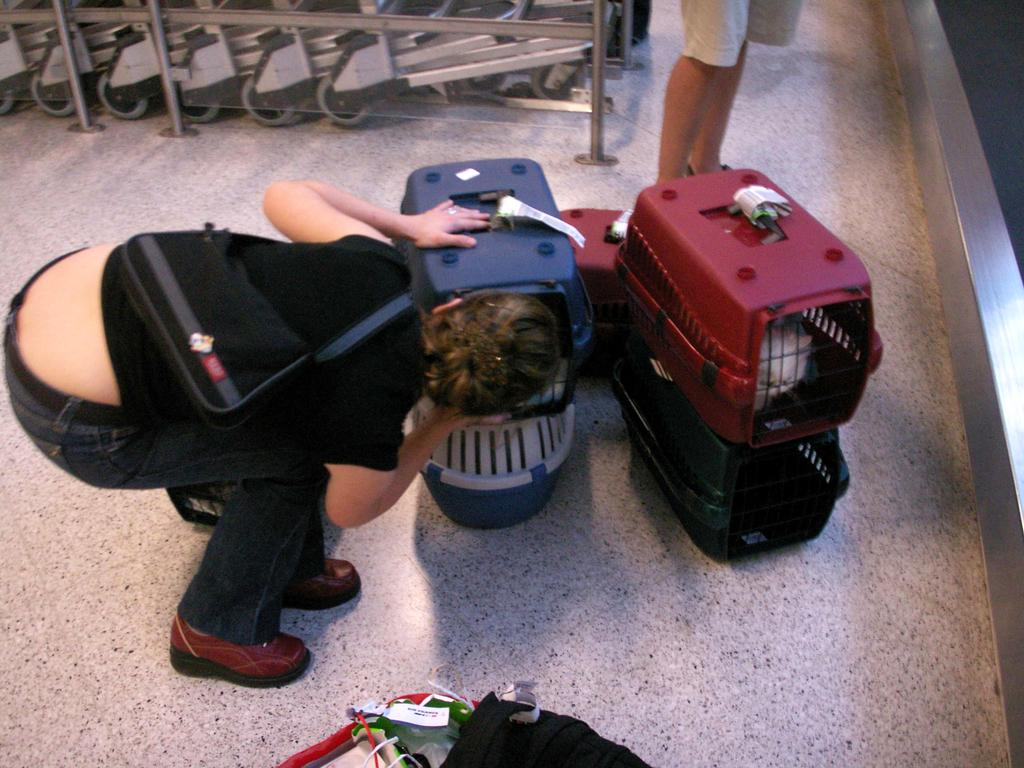Luggage-and-bags: (628, 164, 883, 446), (561, 208, 628, 381)
